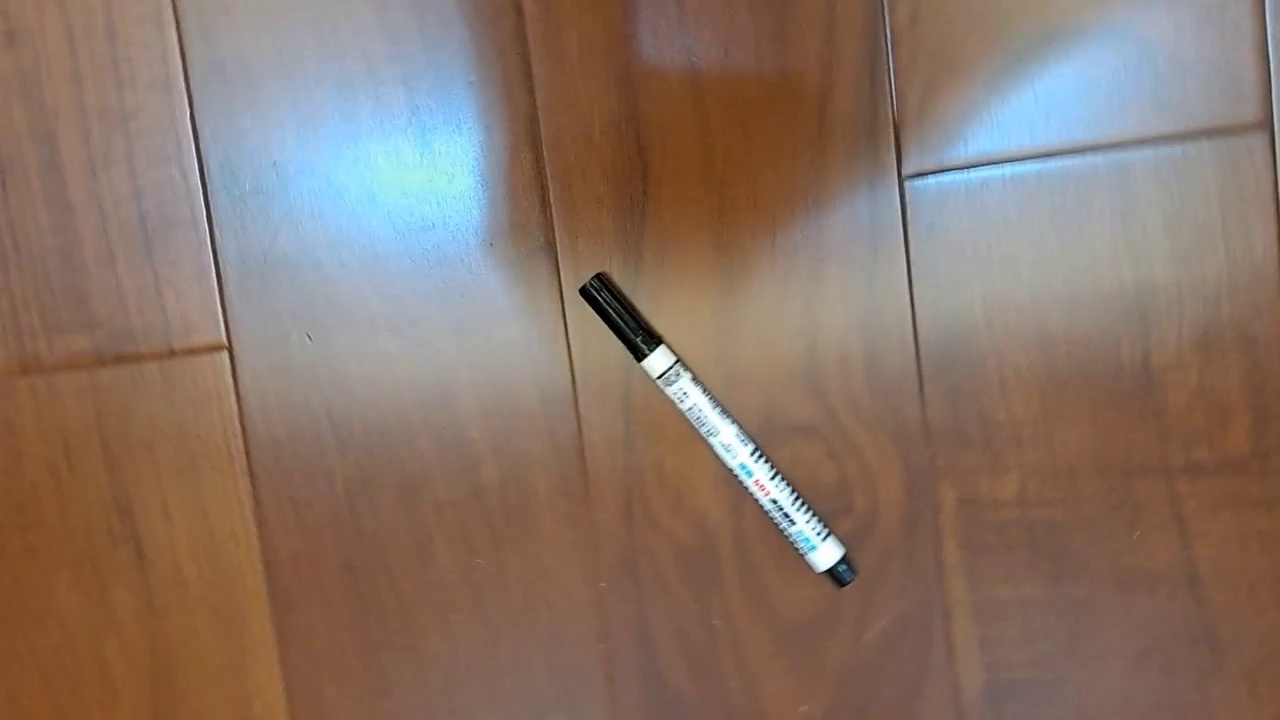pen: (577, 271, 859, 589)
